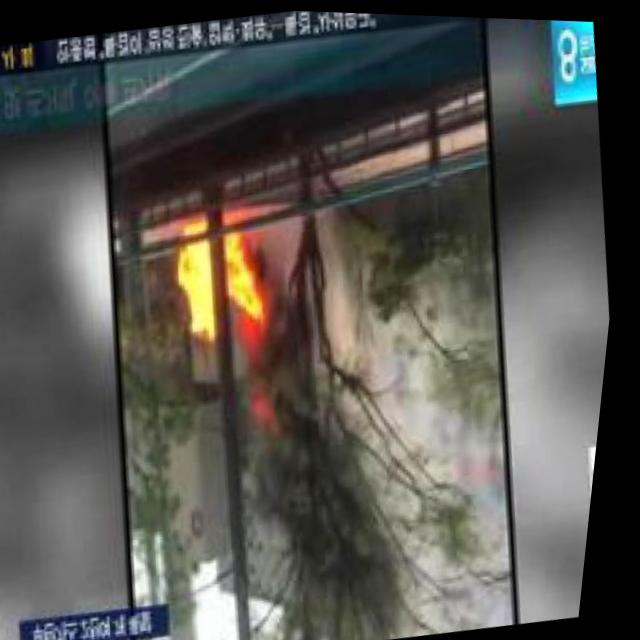Fire: (161, 204, 288, 329)
